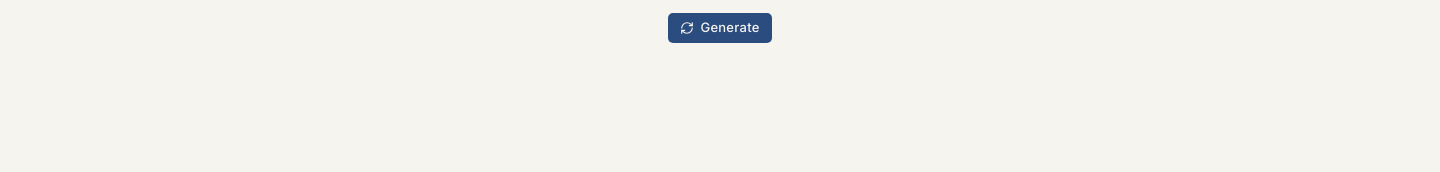
Test case: GenerateButton › explains when no active tasks are available to plan
Click the button "Generate" at x=720, y=28, box [667, 12, 773, 44]
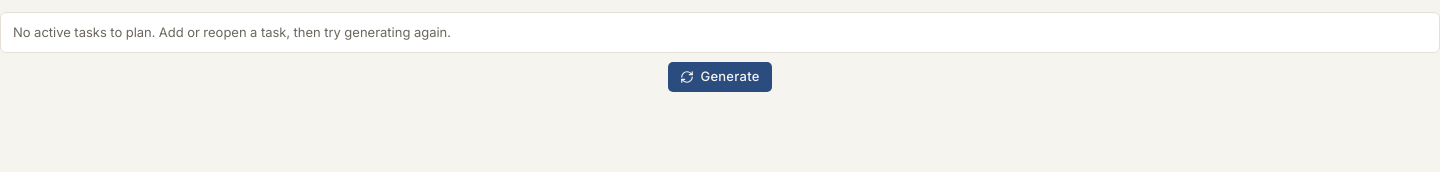
Expected: the button "Generate" is enabled, [667, 61, 773, 93]
Result: the message reads "No active tasks to plan. Add or reopen a task, then try generating again." at [13, 24, 451, 40]
